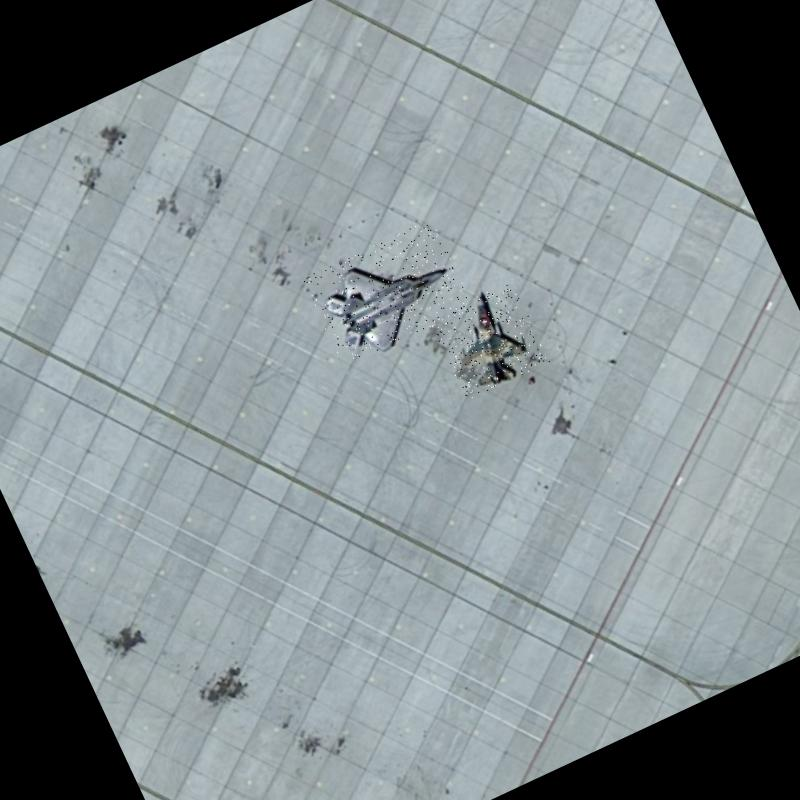A15: (302, 217, 474, 368)
A5: (428, 280, 549, 400)
